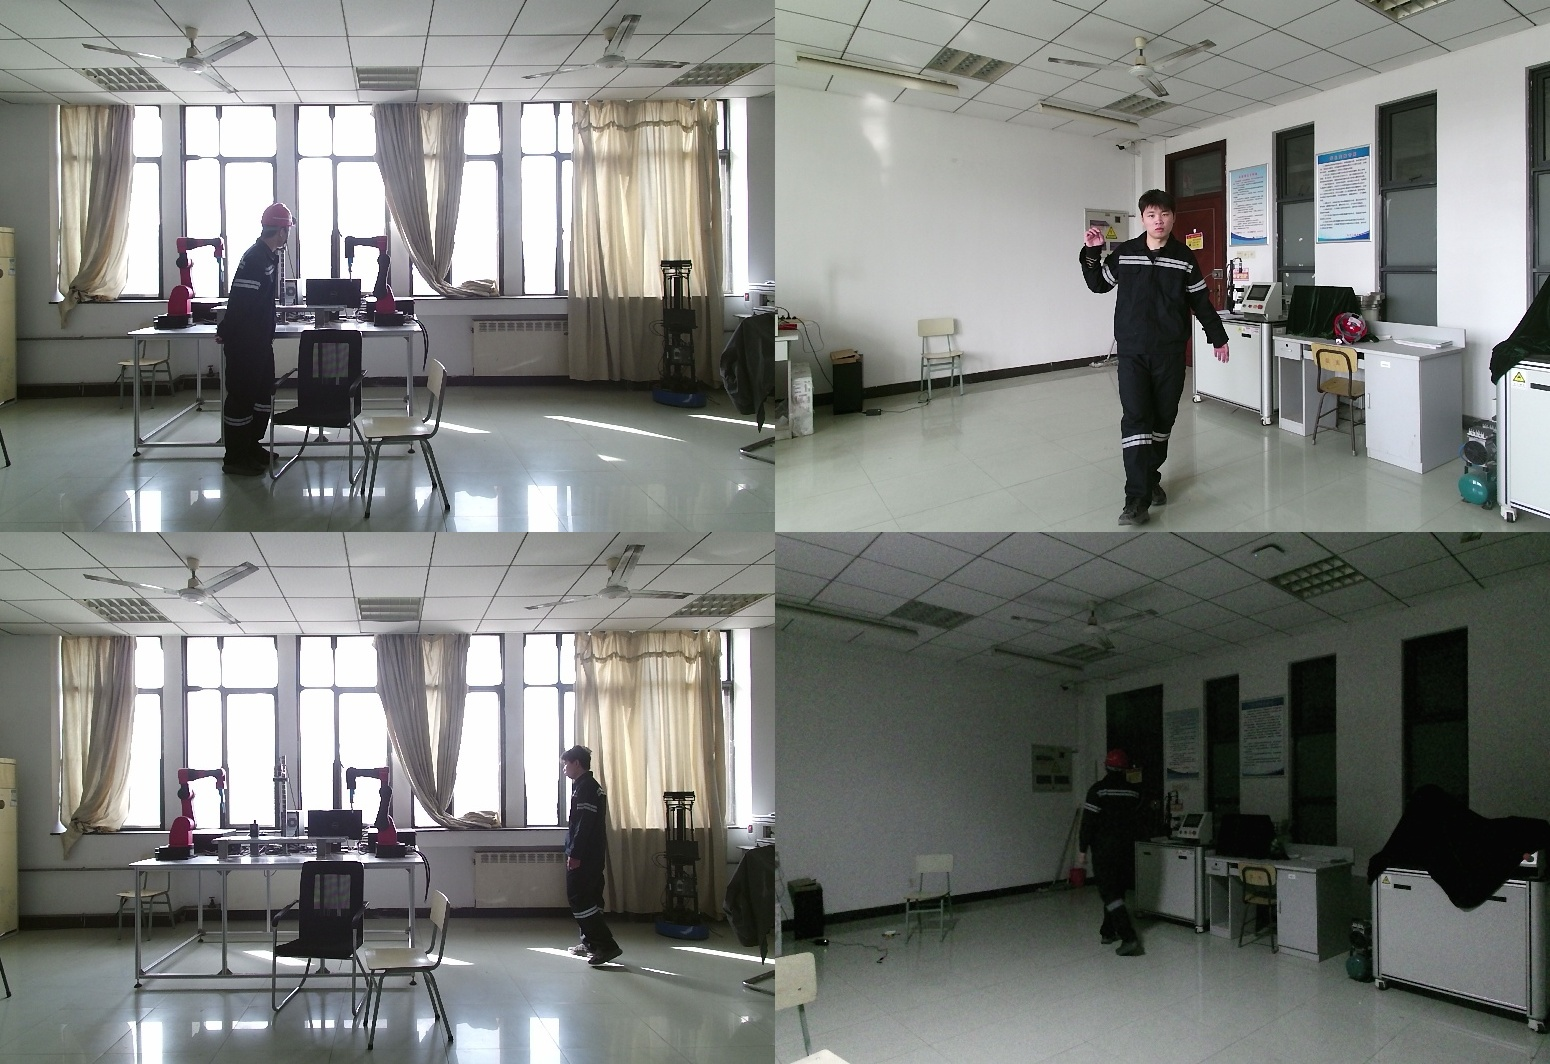person: (1080, 191, 1232, 521), (220, 204, 293, 478), (1083, 752, 1154, 964), (561, 745, 622, 966)
